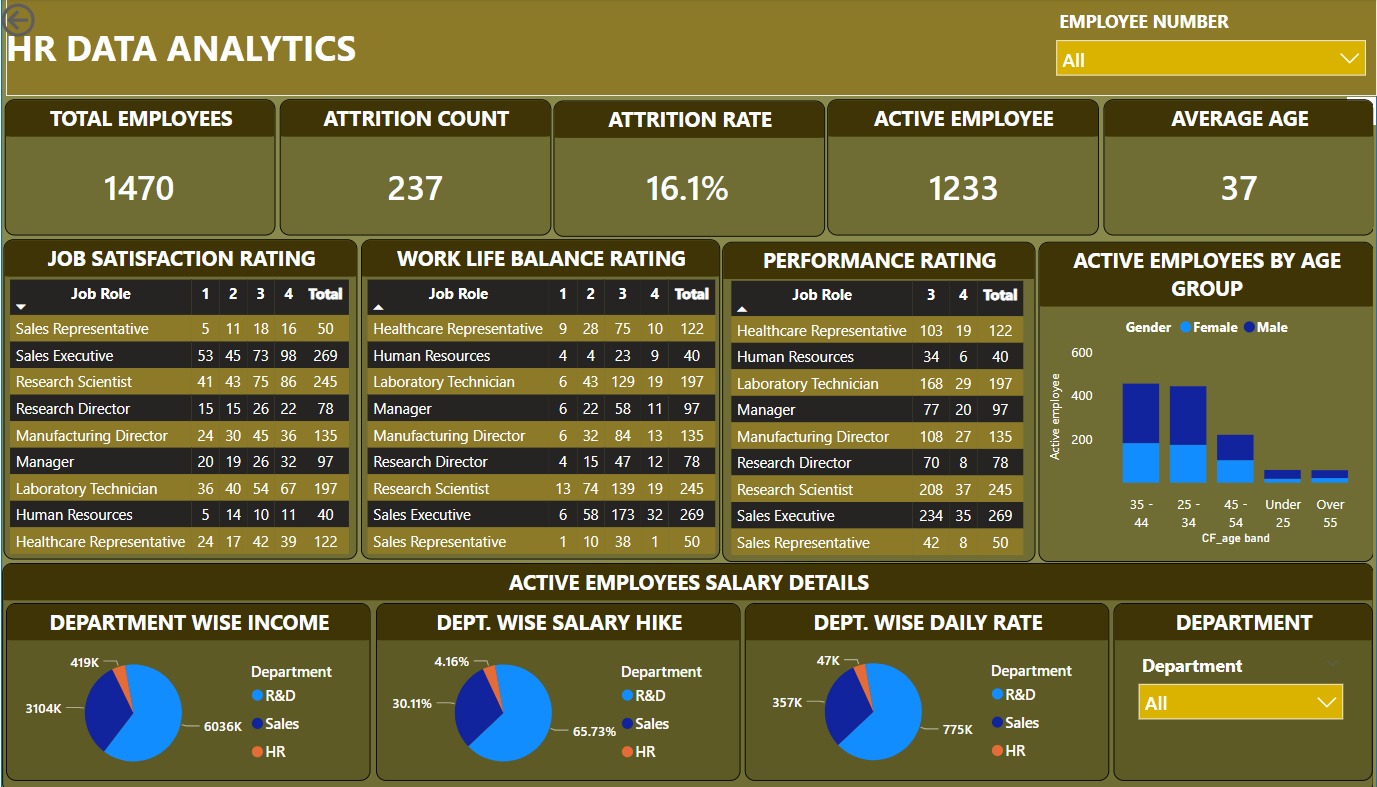

The page's visual inventory and layout, read from the dashboard file:
{"tool":"powerbi","page":{"name":"Page 1","canvas":[1280,720],"ordinal":0},"visuals":[{"type":"shape","box":[4,0,1245.4,719.9],"z":0},{"type":"shape","box":[9.6,0,1240.5,87.8],"z":1000},{"type":"shape","title":"TOTAL EMPLOYEES","box":[8,91.2,245,123.3],"z":2000},{"type":"cardVisual","fields":{"Data":["HR data.TOTAL EMPLOYEES"]},"box":[46.9,126,164.9,72.4],"z":3000},{"type":"shape","title":"ATTRITION COUNT","box":[256.1,91.2,245.3,123.3],"z":4000},{"type":"cardVisual","fields":{"Data":["Sum(HR data.ATTRITION COUNT)"]},"box":[296.3,126,166.2,72.4],"z":5000},{"type":"shape","title":"ATTRITION RATE","box":[504.1,92.5,245.3,123.3],"z":6000},{"type":"cardVisual","fields":{"Data":["HR data.ATTRITION RATE"]},"box":[542.9,126,166.2,72.4],"z":7000},{"type":"shape","title":"ACTIVE EMPLOYEE","box":[752.1,91.2,245.3,123.3],"z":8000},{"type":"cardVisual","fields":{"Data":["Sum(HR data.ACTIVE EMPLOYEE)"]},"box":[792.3,126,166.2,72.4],"z":9000},{"type":"shape","title":"AVERAGE AGE","box":[1001.4,91.2,245,123.3],"z":10000},{"type":"cardVisual","fields":{"Data":["Avg(HR data.Age)"]},"box":[1071.1,126,105.9,81.8],"z":11000},{"type":"shape","title":"WORK LIFE BALANCE RATING","box":[329.8,218.5,324.4,289.6],"z":12000},{"type":"shape","title":"JOB SATISFACTION RATING","box":[6.6,218.7,320.3,289.9],"z":13000},{"type":"actionButton","box":[0,0,100,40],"z":14000},{"type":"pivotTable","fields":{"Rows":["HR data.Job Role"],"Values":["Sum(HR data.ACTIVE EMPLOYEE)"],"Columns":["HR data.Job Satisfaction"]},"box":[8,249.4,325.8,272.1],"z":15000},{"type":"pivotTable","fields":{"Rows":["HR data.Job Role"],"Values":["Sum(HR data.ACTIVE EMPLOYEE)"],"Columns":["HR data.Work Life Balance"]},"box":[331.1,249.4,324.4,272.1],"z":16000},{"type":"shape","title":"ACTIVE EMPLOYEES BY AGE GROUP ","box":[942.4,219.9,303,289.6],"z":17000},{"type":"columnChart","fields":{"Category":["HR data.CF_age band"],"Series":["HR data.Gender"],"Y":["Sum(HR data.ACTIVE EMPLOYEE)"]},"box":[947.8,277.5,297.6,221.2],"z":18000},{"type":"shape","title":"PERFORMANCE RATING","box":[656.9,219.9,282.9,289.6],"z":19000},{"type":"shape","title":"ACTIVE EMPLOYEES SALARY DETAILS","box":[5.4,510.8,1240.1,209.1],"z":20000},{"type":"slicer","fields":{"Values":["HR data.emp no"]},"box":[947.8,4,300.3,80.4],"z":21000},{"type":"pivotTable","fields":{"Rows":["HR data.Job Role"],"Values":["Sum(HR data.ACTIVE EMPLOYEE)"],"Columns":["HR data.Performance Rating"]},"box":[659.6,250.7,280.2,258.7],"z":22000},{"type":"shape","title":"DEPARTMENT WISE INCOME","box":[9.4,547,329.8,160.9],"z":23000},{"type":"pieChart","fields":{"Y":["Sum(HR data.Monthly Income)"],"Category":["HR data.Department"]},"box":[13.4,584.5,317.7,124.7],"z":24000},{"type":"shape","title":"DEPARTMENT","box":[1010.8,547,234.6,160.9],"z":25000},{"type":"shape","title":"DEPT. WISE SALARY HIKE","box":[343.2,547,329.8,160.9],"z":26000},{"type":"pieChart","fields":{"Y":["Sum(HR data.Percent Salary Hike)"],"Category":["HR data.Department"]},"box":[348.6,584.5,317.7,124.7],"z":27000},{"type":"shape","title":"DEPT. WISE DAILY RATE","box":[677,547,329.8,160.9],"z":28000},{"type":"pieChart","fields":{"Y":["Sum(HR data.Daily Rate)"],"Category":["HR data.Department"]},"box":[682.4,583.2,317.7,124.7],"z":29000},{"type":"slicer","fields":{"Values":["HR data.Department"]},"box":[1022.9,587.2,205.1,101.9],"z":30000}]}

Visuals, with their boxes in screenshot pixels (x1, y1, x2, y2), scaled from the page's 1280x720 canvas onto the 1377x787 screenshot:
shape: {"x1": 4, "y1": 0, "x2": 1344, "y2": 786}
shape: {"x1": 10, "y1": 0, "x2": 1345, "y2": 96}
"TOTAL EMPLOYEES" shape: {"x1": 9, "y1": 100, "x2": 272, "y2": 234}
cardVisual - HR data.TOTAL EMPLOYEES: {"x1": 50, "y1": 138, "x2": 228, "y2": 217}
"ATTRITION COUNT" shape: {"x1": 276, "y1": 100, "x2": 539, "y2": 234}
cardVisual - Sum(HR data.ATTRITION COUNT): {"x1": 319, "y1": 138, "x2": 498, "y2": 217}
"ATTRITION RATE" shape: {"x1": 542, "y1": 101, "x2": 806, "y2": 236}
cardVisual - HR data.ATTRITION RATE: {"x1": 584, "y1": 138, "x2": 763, "y2": 217}
"ACTIVE EMPLOYEE" shape: {"x1": 809, "y1": 100, "x2": 1073, "y2": 234}
cardVisual - Sum(HR data.ACTIVE EMPLOYEE): {"x1": 852, "y1": 138, "x2": 1031, "y2": 217}
"AVERAGE AGE" shape: {"x1": 1077, "y1": 100, "x2": 1341, "y2": 234}
cardVisual - Avg(HR data.Age): {"x1": 1152, "y1": 138, "x2": 1266, "y2": 227}
"WORK LIFE BALANCE RATING" shape: {"x1": 355, "y1": 239, "x2": 704, "y2": 555}
"JOB SATISFACTION RATING" shape: {"x1": 7, "y1": 239, "x2": 352, "y2": 556}
actionButton: {"x1": 0, "y1": 0, "x2": 108, "y2": 44}
pivotTable - HR data.Job Role x Sum(HR data.ACTIVE EMPLOYEE): {"x1": 9, "y1": 273, "x2": 359, "y2": 570}
pivotTable - HR data.Job Role x Sum(HR data.ACTIVE EMPLOYEE): {"x1": 356, "y1": 273, "x2": 705, "y2": 570}
"ACTIVE EMPLOYEES BY AGE GROUP " shape: {"x1": 1014, "y1": 240, "x2": 1340, "y2": 557}
columnChart - HR data.CF_age band x HR data.Gender: {"x1": 1020, "y1": 303, "x2": 1340, "y2": 545}
"PERFORMANCE RATING" shape: {"x1": 707, "y1": 240, "x2": 1011, "y2": 557}
"ACTIVE EMPLOYEES SALARY DETAILS" shape: {"x1": 6, "y1": 558, "x2": 1340, "y2": 786}
slicer - HR data.emp no: {"x1": 1020, "y1": 4, "x2": 1343, "y2": 92}
pivotTable - HR data.Job Role x Sum(HR data.ACTIVE EMPLOYEE): {"x1": 710, "y1": 274, "x2": 1011, "y2": 557}
"DEPARTMENT WISE INCOME" shape: {"x1": 10, "y1": 598, "x2": 365, "y2": 774}
pieChart - Sum(HR data.Monthly Income) x HR data.Department: {"x1": 14, "y1": 639, "x2": 356, "y2": 775}
"DEPARTMENT" shape: {"x1": 1087, "y1": 598, "x2": 1340, "y2": 774}
"DEPT. WISE SALARY HIKE" shape: {"x1": 369, "y1": 598, "x2": 724, "y2": 774}
pieChart - Sum(HR data.Percent Salary Hike) x HR data.Department: {"x1": 375, "y1": 639, "x2": 717, "y2": 775}
"DEPT. WISE DAILY RATE" shape: {"x1": 728, "y1": 598, "x2": 1083, "y2": 774}
pieChart - Sum(HR data.Daily Rate) x HR data.Department: {"x1": 734, "y1": 637, "x2": 1076, "y2": 774}
slicer - HR data.Department: {"x1": 1100, "y1": 642, "x2": 1321, "y2": 753}
